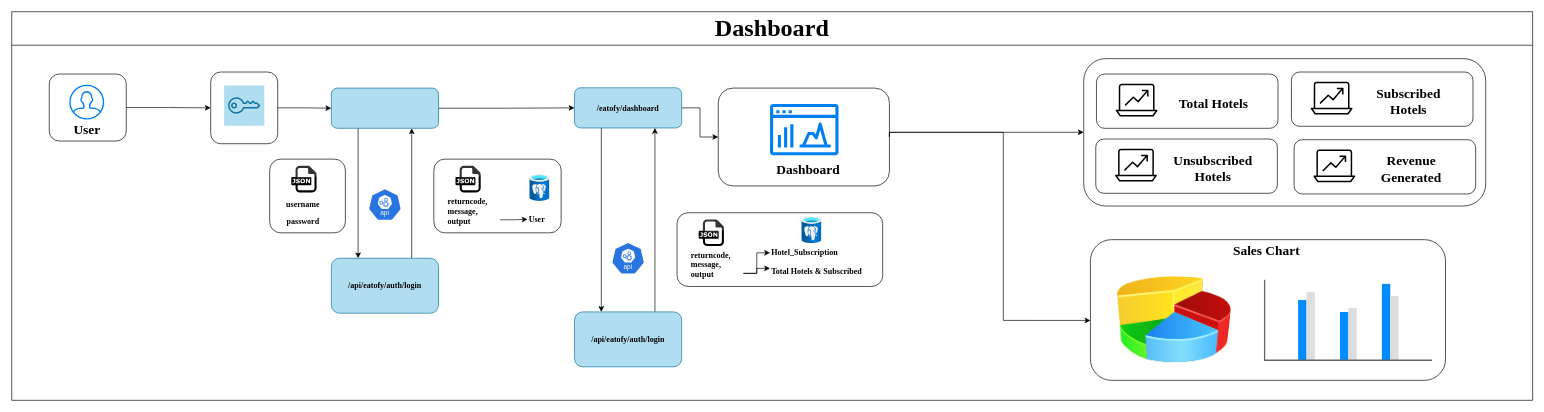
This 1544x412 diagram has some shape labels left out. The box of each missing label's shape, as (x1, y1, x2, y2) in pixels:
/eatofy/auth/login: (331, 87, 439, 128)
Login: (223, 85, 264, 126)
